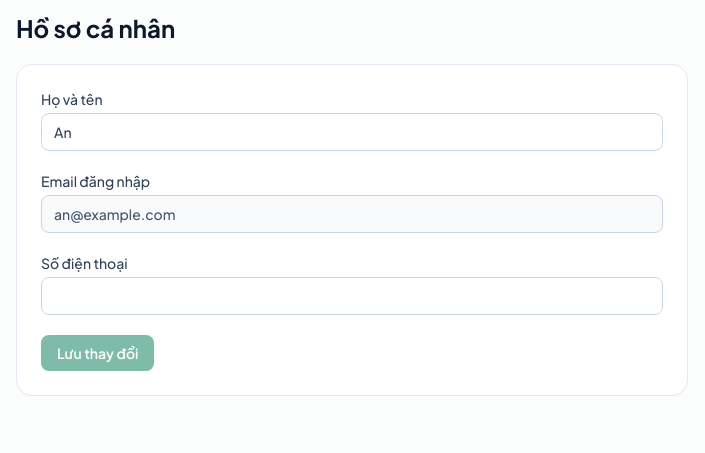
Test case: saves only editable profile fields with the signed-in account token
Replace the text in the field labelled "Họ và tên" with "Nguyễn An" at (352, 132), box [41,113,663,151]
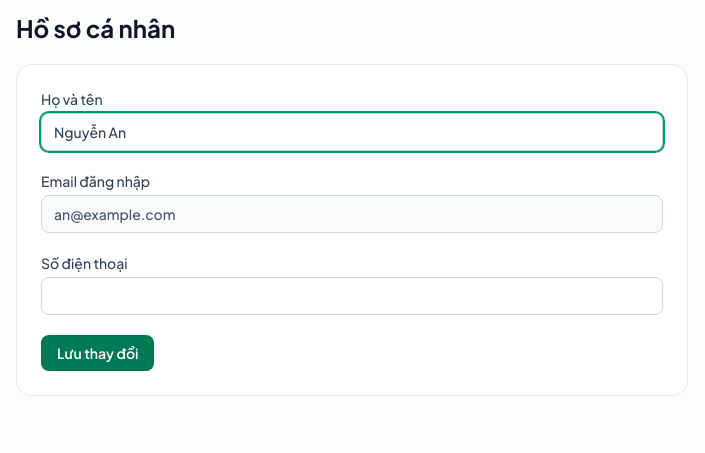
Type "0901234567" into the field labelled "Số điện thoại" at (352, 296), box [41,277,663,315]
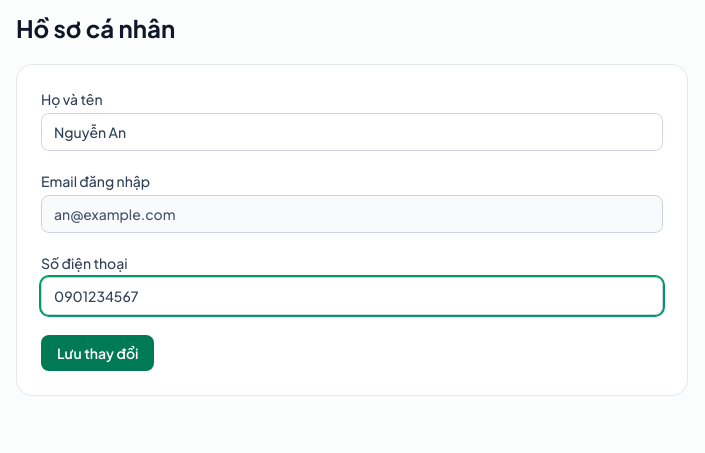
Click the button "Lưu thay đổi" at (98, 353), box [41,335,154,371]
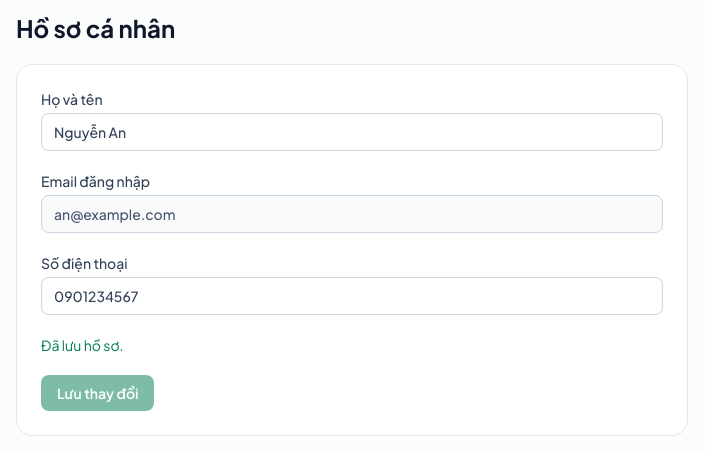
Now the message reads "Đã lưu hồ sơ.", box [41,336,124,354]
